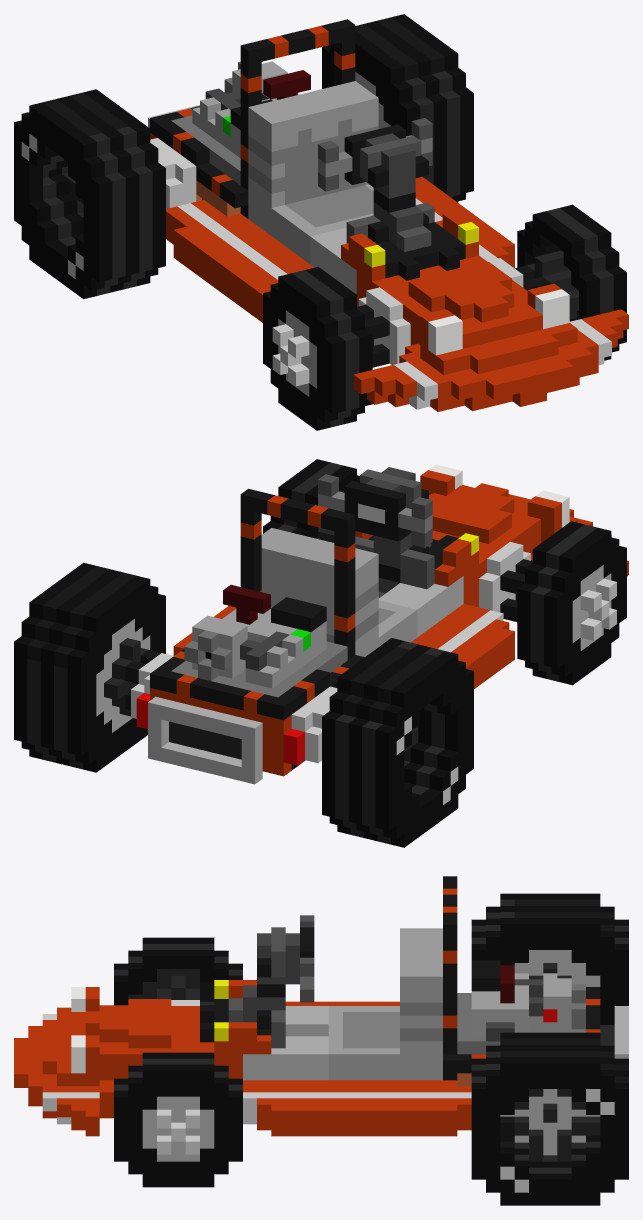
Rendered from Red_Kart.obj.
3 views of the same model, one above another, from view 1: azimuth 30°, elevation 25°; view 2: azimuth 150°, elevation 25°; view 3: azimuth 270°, elevation 25° (orthographic). The views are drawn at different scales.
Size of the model in its own units: 2.8 by 1.7 by 4.3.
1 material, 1 textured.
